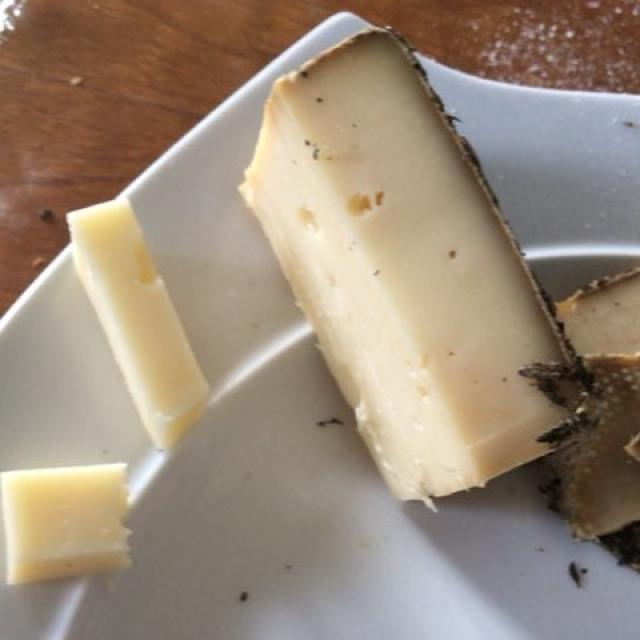cheese: (7, 30, 604, 595)
